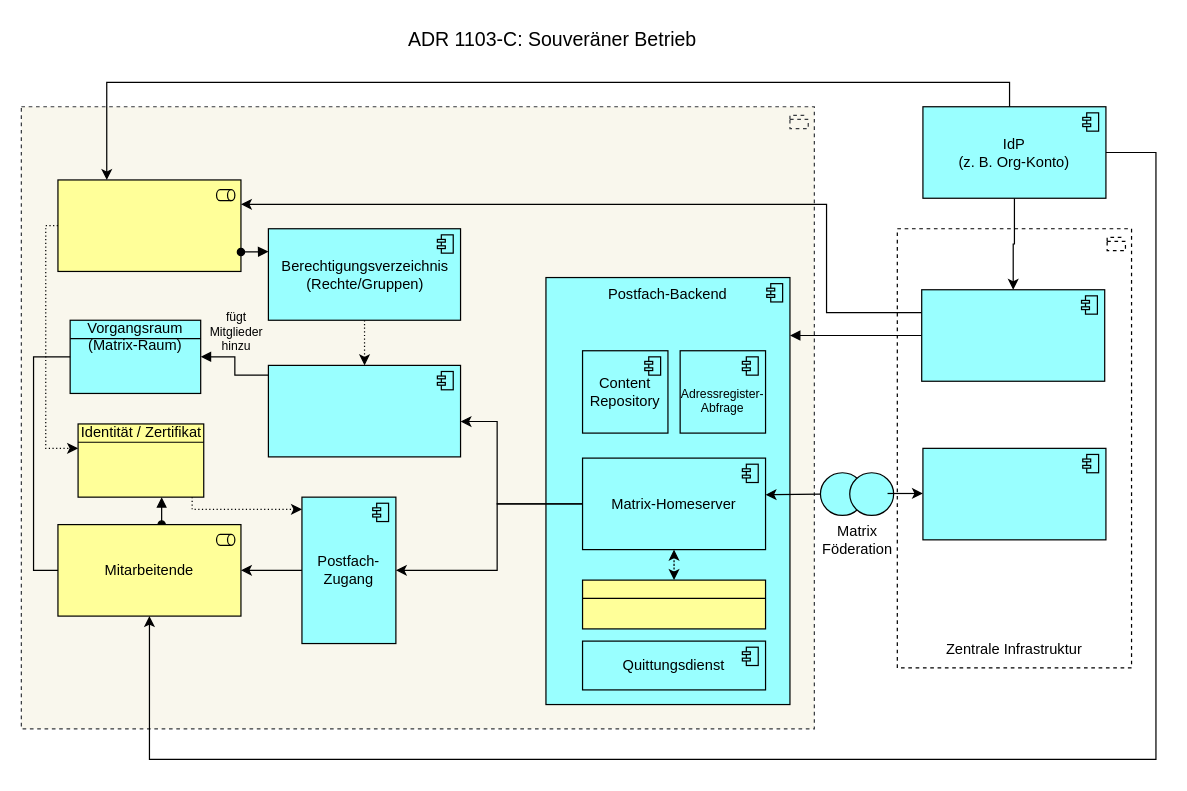
The diagram is 1187 pixels wide and 791 high, and some of its shapes have lost their labels. The box of each missing label's shape, as (x1, y1, x2, y2) in pixels:
Funktionspostfach: (581, 579, 766, 629)
Machtbereich Organisation: (20, 106, 814, 729)
Org-Admin: (57, 179, 241, 271)
Raum-Management-Service (technische Nutzer): (267, 364, 461, 457)
Zentrales Postfach-Backend: (922, 447, 1106, 540)
Zentrales Self-Service-Portal: (920, 289, 1105, 381)
